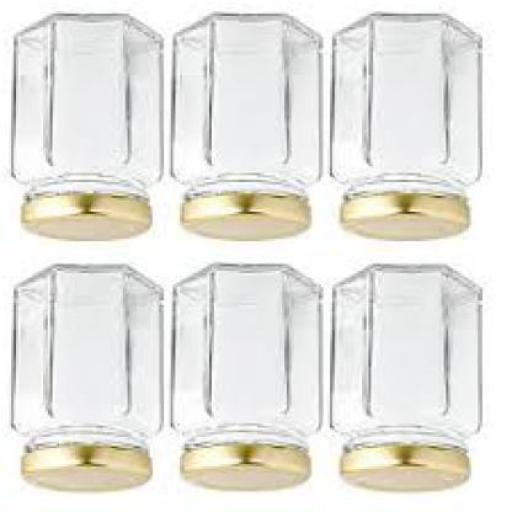glass: (173, 14, 325, 203), (335, 264, 482, 456), (16, 266, 164, 455), (335, 16, 485, 202), (173, 268, 323, 453), (18, 18, 164, 202)
metal: (344, 446, 472, 494), (25, 446, 157, 492), (184, 198, 312, 244), (344, 196, 472, 241), (184, 448, 312, 492), (27, 200, 155, 242)
